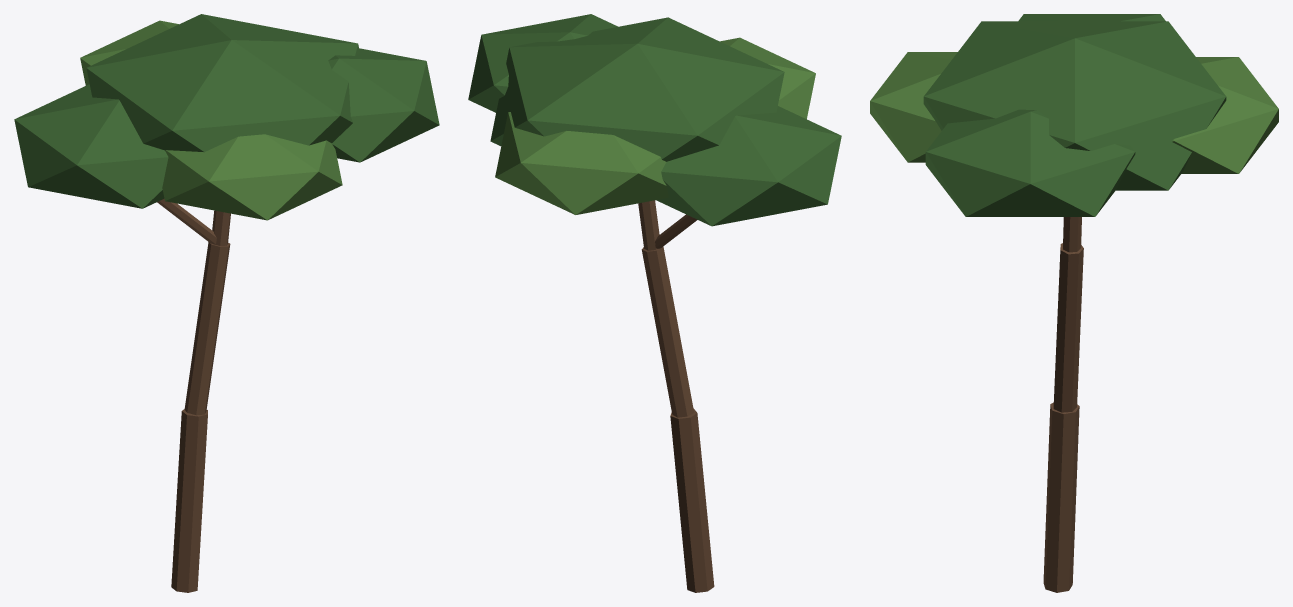
File: pin_parasol.glb
3 renders of one model, left to right at view 1: azimuth 30°, elevation 25°; view 2: azimuth 150°, elevation 25°; view 3: azimuth 270°, elevation 25°, orthographic. The views are drawn at different scales.
Visible parts, largest first — view 1: Houppier, Houppier.001, Houppier.003, Houppier.002, Tronc, Tronc.001, Houppier.004, Branche; view 2: Houppier, Houppier.001, Houppier.004, Tronc, Houppier.002, Tronc.001, Houppier.003, Tronc.002, Branche; view 3: Houppier, Houppier.002, Houppier.004, Tronc, Houppier.003, Tronc.001, Houppier.001, Tronc.002.
Boxes of the visible parts, left/top/right/bottom form: Houppier: left=86, top=14, right=359, bottom=152; Houppier.001: left=14, top=84, right=168, bottom=208; Houppier.003: left=162, top=134, right=342, bottom=220; Houppier.002: left=328, top=48, right=439, bottom=162; Tronc: left=171, top=409, right=207, bottom=592; Tronc.001: left=184, top=242, right=230, bottom=415; Houppier.004: left=80, top=20, right=178, bottom=85; Branche: left=157, top=198, right=216, bottom=244; Houppier: left=490, top=17, right=784, bottom=161; Houppier.001: left=656, top=106, right=841, bottom=226; Houppier.004: left=495, top=112, right=668, bottom=214; Tronc: left=670, top=408, right=714, bottom=592; Houppier.002: left=468, top=14, right=617, bottom=112; Tronc.001: left=641, top=246, right=694, bottom=417; Houppier.003: left=720, top=37, right=815, bottom=119; Tronc.002: left=638, top=200, right=659, bottom=250; Branche: left=655, top=214, right=697, bottom=248; Houppier: left=923, top=21, right=1226, bottom=190; Houppier.002: left=925, top=109, right=1135, bottom=216; Houppier.004: left=1172, top=57, right=1278, bottom=173; Tronc: left=1043, top=402, right=1079, bottom=592; Houppier.003: left=870, top=52, right=957, bottom=162; Tronc.001: left=1053, top=243, right=1083, bottom=412; Houppier.001: left=1018, top=14, right=1165, bottom=21; Tronc.002: left=1063, top=217, right=1081, bottom=252.
Size of the model in its own units: 6.81 by 9.31 by 5.98.
